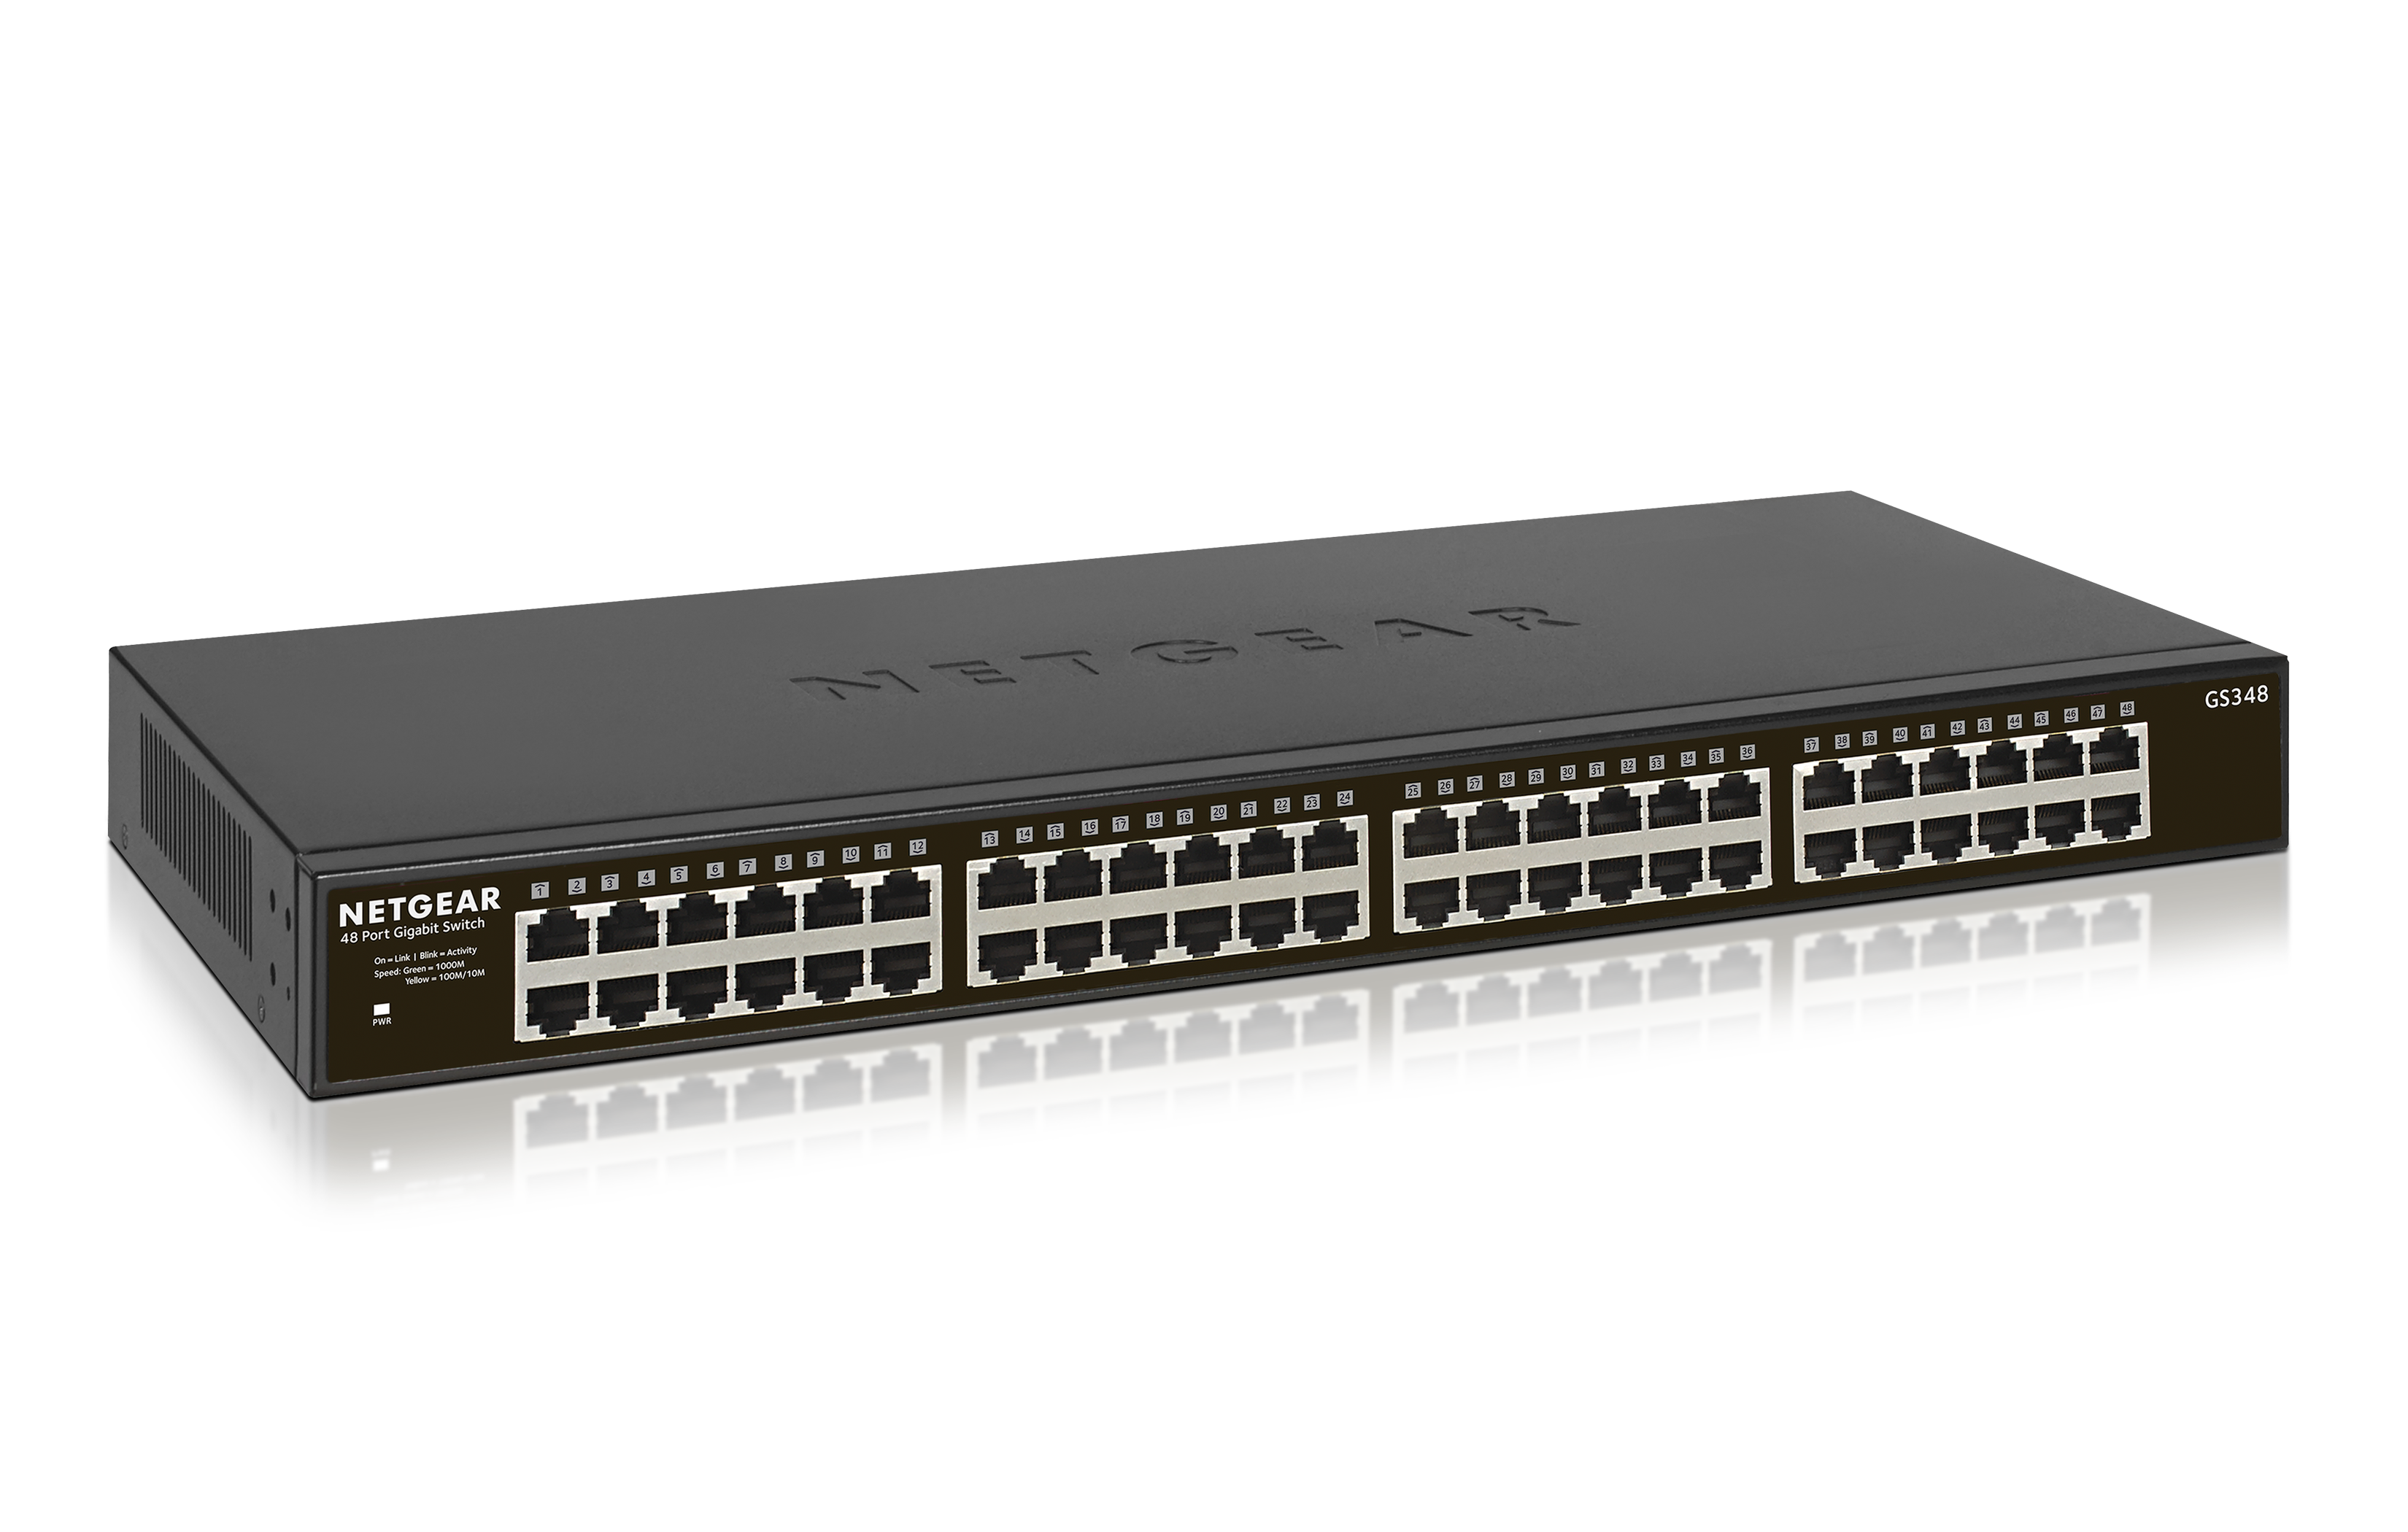Switch: (72, 451, 2355, 1142)
